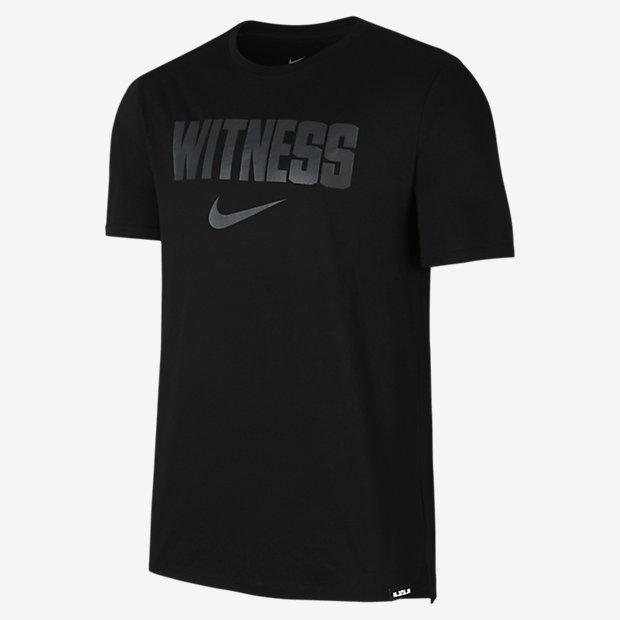teeshirt: (82, 7, 542, 620)
